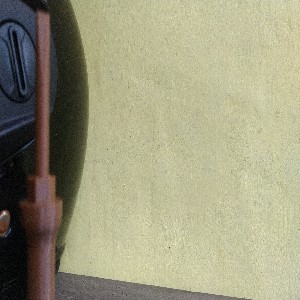obeng: (19, 10, 65, 300)
